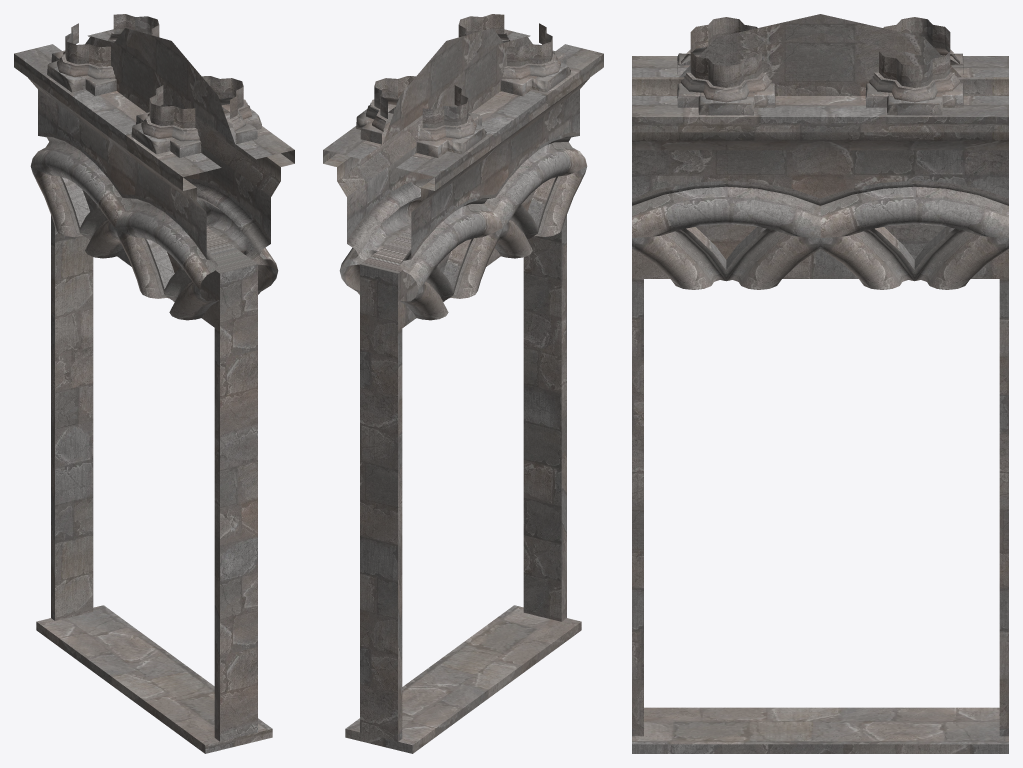
3 renders of one model, left to right at view 1: azimuth 30°, elevation 25°; view 2: azimuth 150°, elevation 25°; view 3: azimuth 270°, elevation 25°, orthographic. The views are drawn at different scales.
Parts seen in each view (by area): view 1: SM_DungeonDestractWallFrame_LOD0; view 2: SM_DungeonDestractWallFrame_LOD0; view 3: SM_DungeonDestractWallFrame_LOD0.
Boxes of the visible parts, x1=… form: SM_DungeonDestractWallFrame_LOD0: x1=14, y1=14, x2=294, y2=753; SM_DungeonDestractWallFrame_LOD0: x1=323, y1=14, x2=603, y2=753; SM_DungeonDestractWallFrame_LOD0: x1=632, y1=14, x2=1008, y2=753.
Size of the model in its own units: 0.7646 by 4.17 by 2.
1 material, 1 textured.
